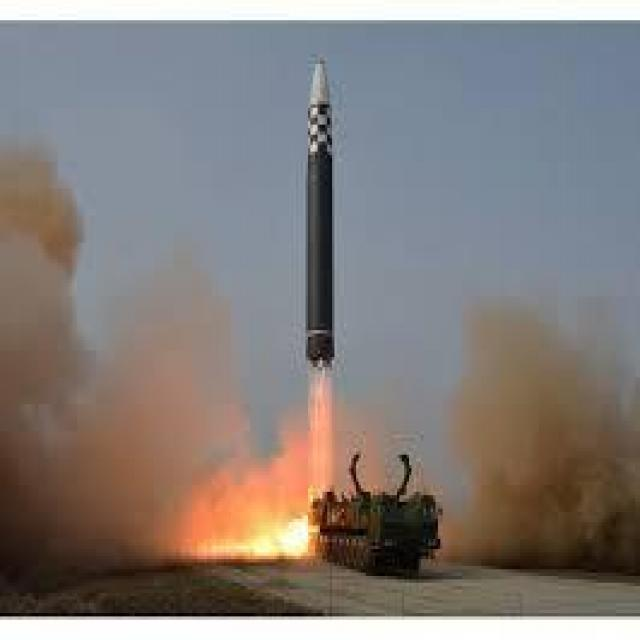rocket: (298, 49, 337, 456)
